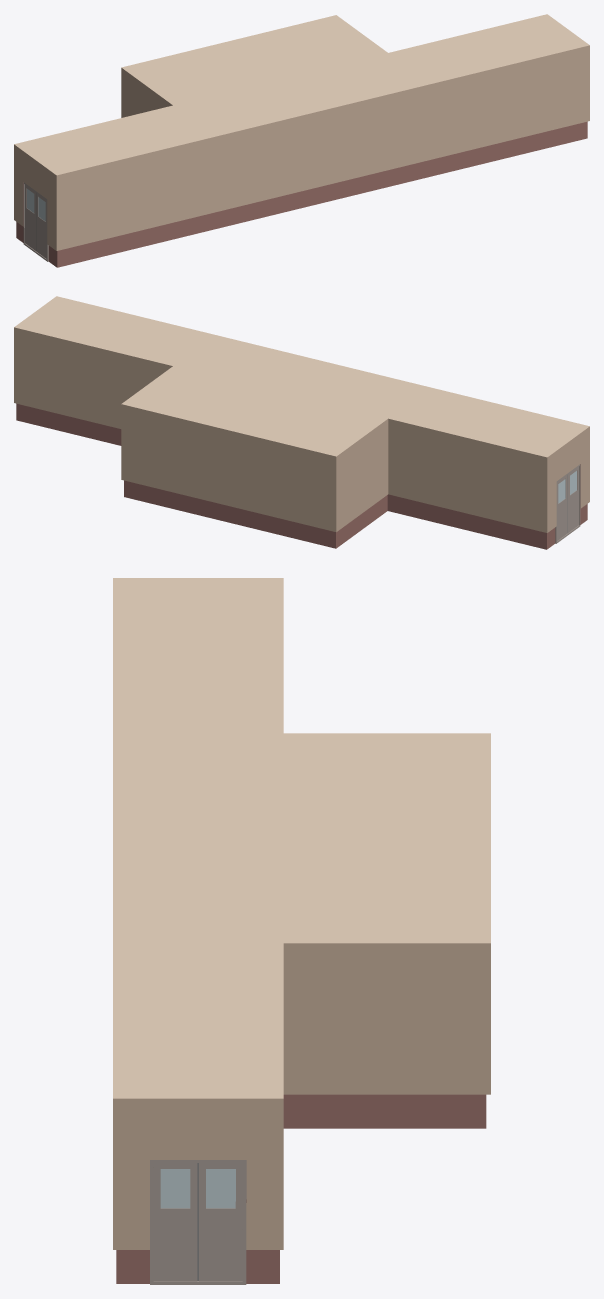
Rendered from koridot.fbx.
3 views of the same model, one above another, from view 1: azimuth 30°, elevation 25°; view 2: azimuth 150°, elevation 25°; view 3: azimuth 270°, elevation 25° (orthographic). The views are drawn at different scales.
Visible parts, largest first — view 1: Cube, Cube.001; view 2: Cube, Cube.001; view 3: Cube, Cube.001.
Boxes of the visible parts, <box> form: Cube: <box>14,14,589,267</box>; Cube.001: <box>23,182,48,261</box>; Cube: <box>14,296,589,549</box>; Cube.001: <box>555,464,580,543</box>; Cube: <box>113,578,490,1283</box>; Cube.001: <box>150,1160,246,1284</box>.
Size of the model in its own units: 1507 by 252 by 462.
